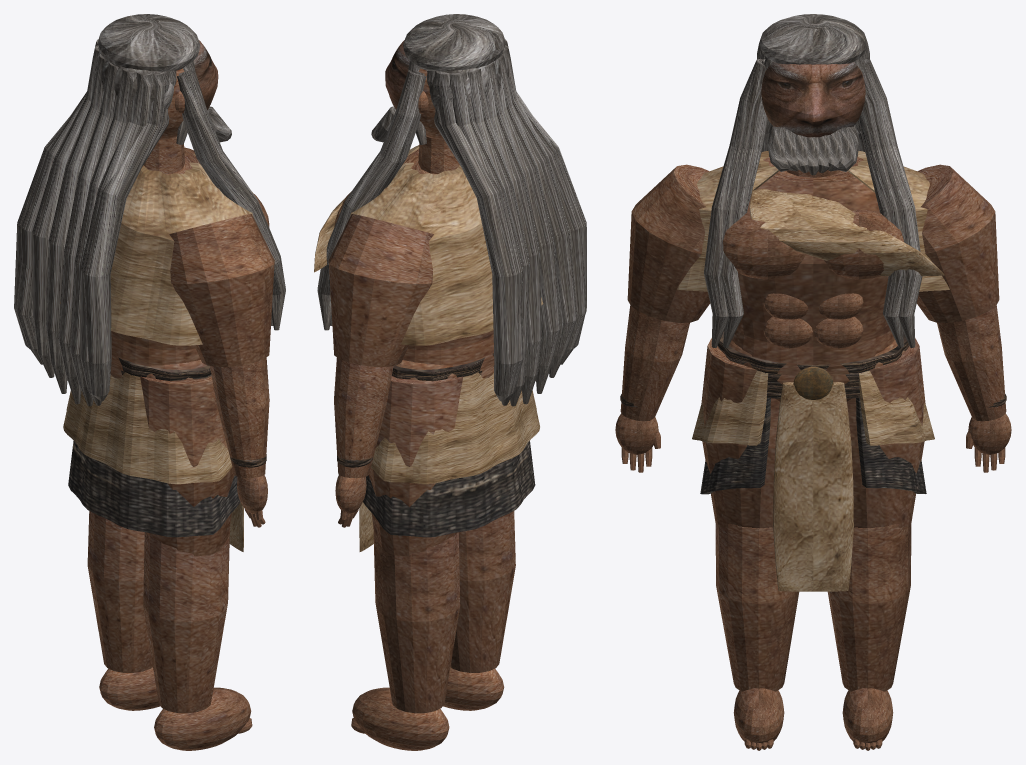
File: nowet.obj
The picture shows the model from 3 angles, left to right: view 1: azimuth 30°, elevation 25°; view 2: azimuth 150°, elevation 25°; view 3: azimuth 270°, elevation 25°; orthographic projection.
Parts seen in each view (by area): view 1: shoulder_wrap_palehide, left_upper_skin, left_shin_skin, upper_waist_wrap_palehide, forest_wrap_charcoal, right_shin_skin, hair_lock_08_hair, left_thigh_skin, left_fore_skin, left_front_lock_1_hair, hair_crown_hair, hair_lock_04_hair (+18 smaller); view 2: shoulder_wrap_palehide, right_upper_skin, right_shin_skin, upper_waist_wrap_palehide, forest_wrap_charcoal, left_shin_skin, hair_lock_01_hair, right_thigh_skin, right_fore_skin, hair_lock_05_hair, right_front_lock_1_hair, hair_crown_hair (+19 smaller); view 3: front_cloth_palehide, torso_skin, left_shin_skin, right_shin_skin, left_upper_skin, right_upper_skin, shoulder_crossing_palehide, head_face, upper_waist_wrap_palehide, left_thigh_skin, right_thigh_skin, left_fore_skin (+22 smaller).
Part boxes in pixels (left/top/right/bottom): shoulder_wrap_palehide: left=60, top=162, right=253, bottom=345; left_upper_skin: left=169, top=214, right=274, bottom=366; left_shin_skin: left=143, top=528, right=229, bottom=713; upper_waist_wrap_palehide: left=63, top=372, right=232, bottom=484; forest_wrap_charcoal: left=68, top=441, right=240, bottom=537; right_shin_skin: left=87, top=511, right=152, bottom=672; hair_lock_08_hair: left=83, top=71, right=169, bottom=401; left_thigh_skin: left=140, top=376, right=234, bottom=556; left_fore_skin: left=210, top=357, right=269, bottom=478; left_front_lock_1_hair: left=177, top=70, right=285, bottom=330; hair_crown_hair: left=98, top=14, right=200, bottom=71; hair_lock_04_hair: left=46, top=54, right=105, bottom=393; shoulder_wrap_palehide: left=350, top=162, right=543, bottom=345; right_upper_skin: left=328, top=214, right=433, bottom=366; right_shin_skin: left=373, top=527, right=460, bottom=713; upper_waist_wrap_palehide: left=371, top=372, right=539, bottom=484; forest_wrap_charcoal: left=363, top=441, right=535, bottom=537; left_shin_skin: left=450, top=511, right=515, bottom=672; hair_lock_01_hair: left=434, top=71, right=519, bottom=401; right_thigh_skin: left=368, top=376, right=462, bottom=556; right_fore_skin: left=334, top=357, right=393, bottom=478; hair_lock_05_hair: left=497, top=54, right=560, bottom=393; right_front_lock_1_hair: left=317, top=70, right=426, bottom=330; hair_crown_hair: left=403, top=14, right=505, bottom=71; front_cloth_palehide: left=773, top=382, right=853, bottom=591; torso_skin: left=732, top=157, right=894, bottom=375; left_shin_skin: left=715, top=523, right=799, bottom=691; right_shin_skin: left=827, top=523, right=911, bottom=691; left_upper_skin: left=627, top=164, right=710, bottom=322; right_upper_skin: left=916, top=164, right=999, bottom=322; shoulder_crossing_palehide: left=749, top=188, right=944, bottom=276; head_face: left=761, top=62, right=865, bottom=137; upper_waist_wrap_palehide: left=692, top=370, right=934, bottom=445; left_thigh_skin: left=701, top=338, right=779, bottom=528; right_thigh_skin: left=847, top=338, right=925, bottom=528; left_fore_skin: left=620, top=305, right=689, bottom=421.
Size of the model in its own units: 28 by 100 by 50.93.
Materials: 1 (1 with a texture image).
